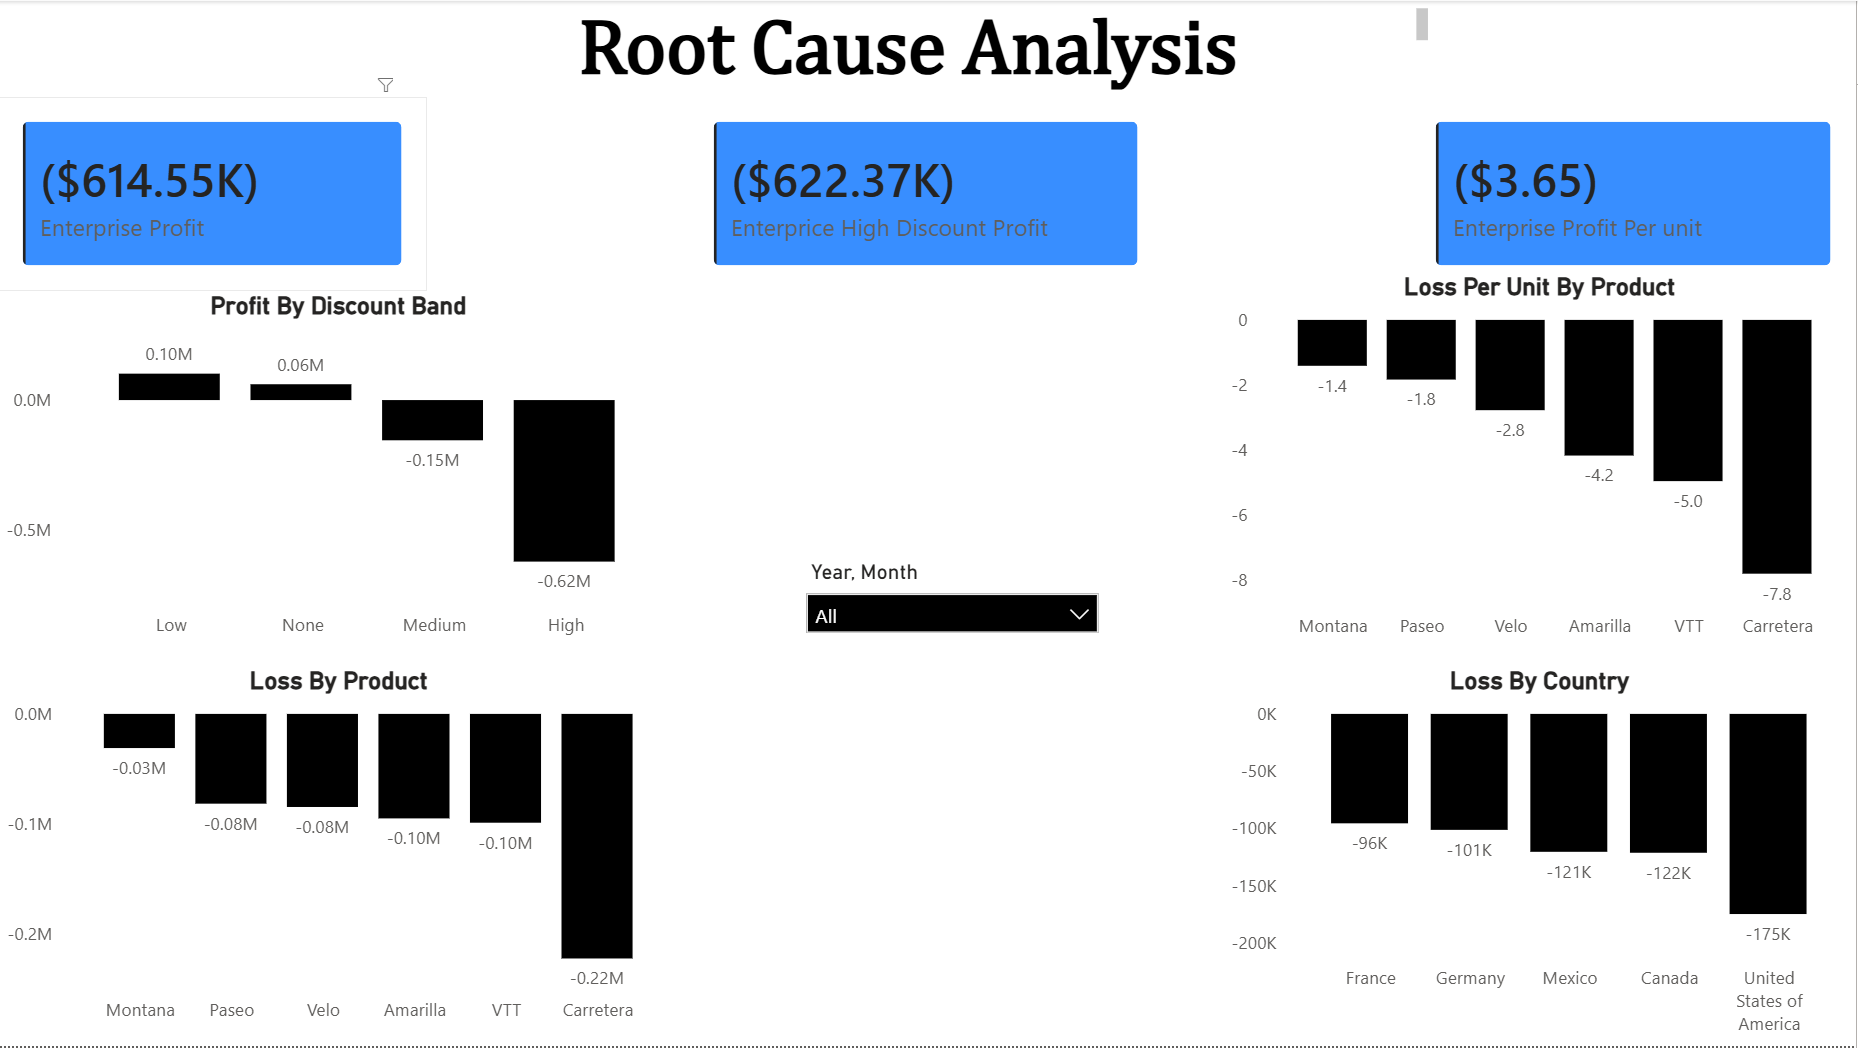

This screenshot's page, from the dashboard's own definition file:
{"tool":"powerbi","page":{"name":"Root Cause Analysis","canvas":[1280,720],"ordinal":2},"visuals":[{"type":"cardVisual","fields":{"Data":["financial_db financialdata.Enterprise Profit"]},"box":[0,66.4,295.5,133.6],"z":0},{"type":"cardVisual","fields":{"Data":["financial_db financialdata.High Discount Profit"]},"box":[476.4,66.4,326.4,133.6],"z":1000},{"type":"cardVisual","fields":{"Data":["financial_db financialdata.Enterprise Profit Per unit"]},"box":[973.6,66.4,306.4,133.6],"z":2000},{"type":"textbox","box":[271.8,0,718.2,66.4],"z":3000},{"type":"columnChart","title":"Loss By Product","fields":{"Category":["financial_db financialdata.Product"],"Y":["financial_db financialdata.Enterprise Profit"]},"box":[0.9,458.2,468.2,255.5],"z":4000},{"type":"columnChart","title":"Loss By Country ","fields":{"Category":["financial_db financialdata.Country"],"Y":["financial_db financialdata.Enterprise Profit"]},"box":[843.6,458.2,436.4,261.8],"z":5000},{"type":"columnChart","title":"Profit By Discount Band ","fields":{"Category":["financial_db financialdata.Discount_Band"],"Y":["financial_db financialdata.Enterprise Profit"]},"box":[0,200,469.1,248.2],"z":6000},{"type":"columnChart","title":"Loss Per Unit By Product","fields":{"Category":["financial_db financialdata.Product"],"Y":["financial_db financialdata.Enterprise Profit Per unit"]},"box":[843.6,186.4,436.4,261.8],"z":7000},{"type":"slicer","fields":{"Values":["financial_db financialdata.Dates.Variation.Date Hierarchy.Year","financial_db financialdata.Dates.Variation.Date Hierarchy.Month"]},"box":[547.3,380,220.9,84.5],"z":8000}]}

Visuals, with their boxes in screenshot pixels (x1, y1, x2, y2), scaled from the page's 1280x720 canvas onto the 1858x1048 screenshot:
cardVisual - financial_db financialdata.Enterprise Profit: region(0, 97, 429, 291)
cardVisual - financial_db financialdata.High Discount Profit: region(692, 97, 1165, 291)
cardVisual - financial_db financialdata.Enterprise Profit Per unit: region(1413, 97, 1857, 291)
textbox: region(395, 0, 1437, 97)
"Loss By Product" columnChart: region(1, 667, 681, 1039)
"Loss By Country " columnChart: region(1225, 667, 1857, 1047)
"Profit By Discount Band " columnChart: region(0, 291, 681, 652)
"Loss Per Unit By Product" columnChart: region(1225, 271, 1857, 652)
slicer - financial_db financialdata.Dates.Variation.Date Hierarchy.Year x financial_db financialdata.Dates.Variation.Date Hierarchy.Month: region(794, 553, 1115, 676)
